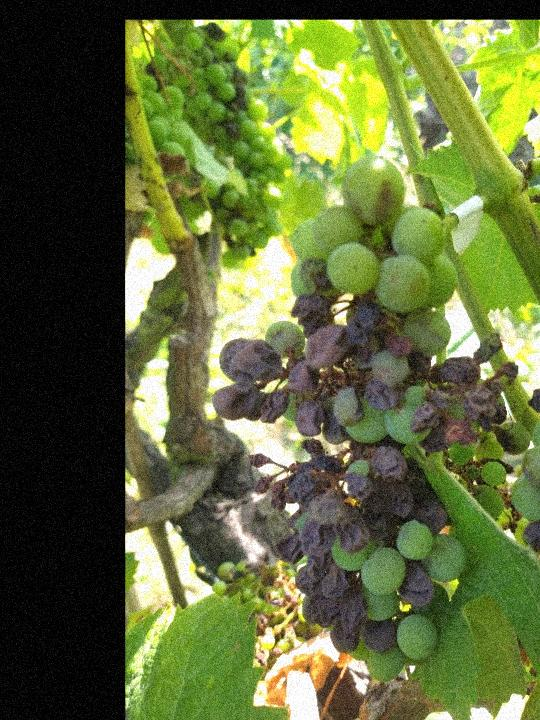grape: (212, 154, 529, 685), (140, 30, 282, 265)
